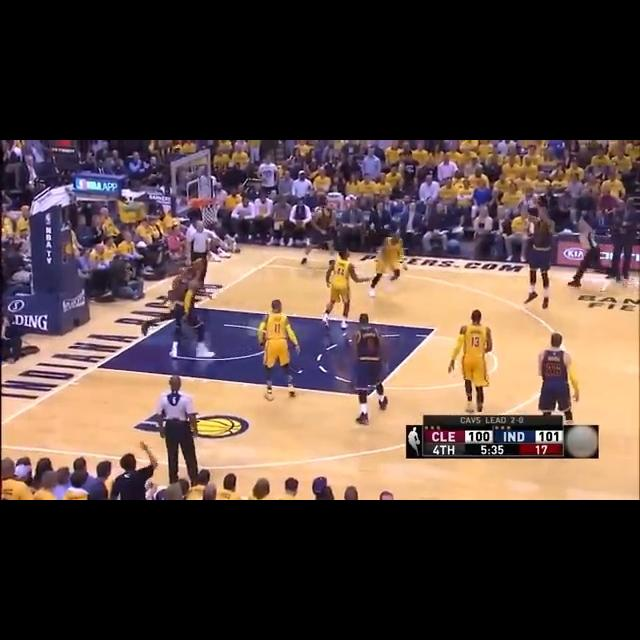hoop: (198, 198, 222, 227)
